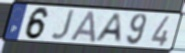4: (149, 15, 171, 47)
6: (23, 6, 51, 41)
9: (124, 13, 150, 46)
A: (69, 10, 97, 44), (93, 13, 123, 44)
J: (50, 9, 76, 41)
